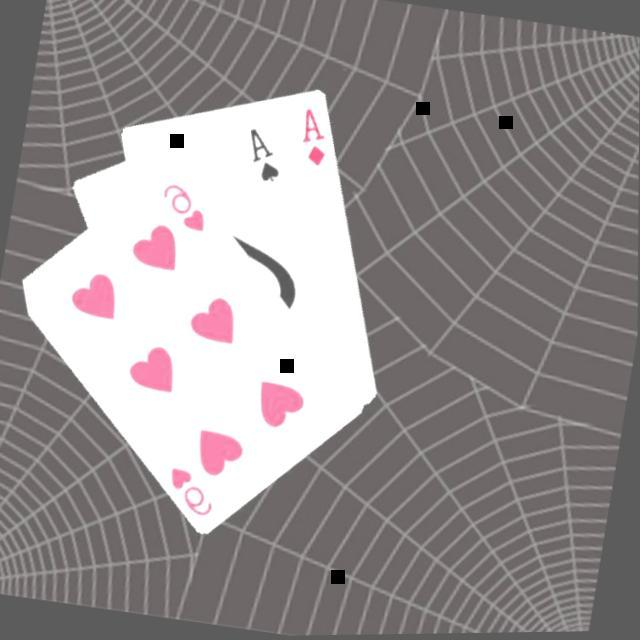6H: (160, 463, 222, 523), (154, 180, 214, 238)
AD: (292, 106, 334, 174)
AS: (238, 125, 290, 190)
